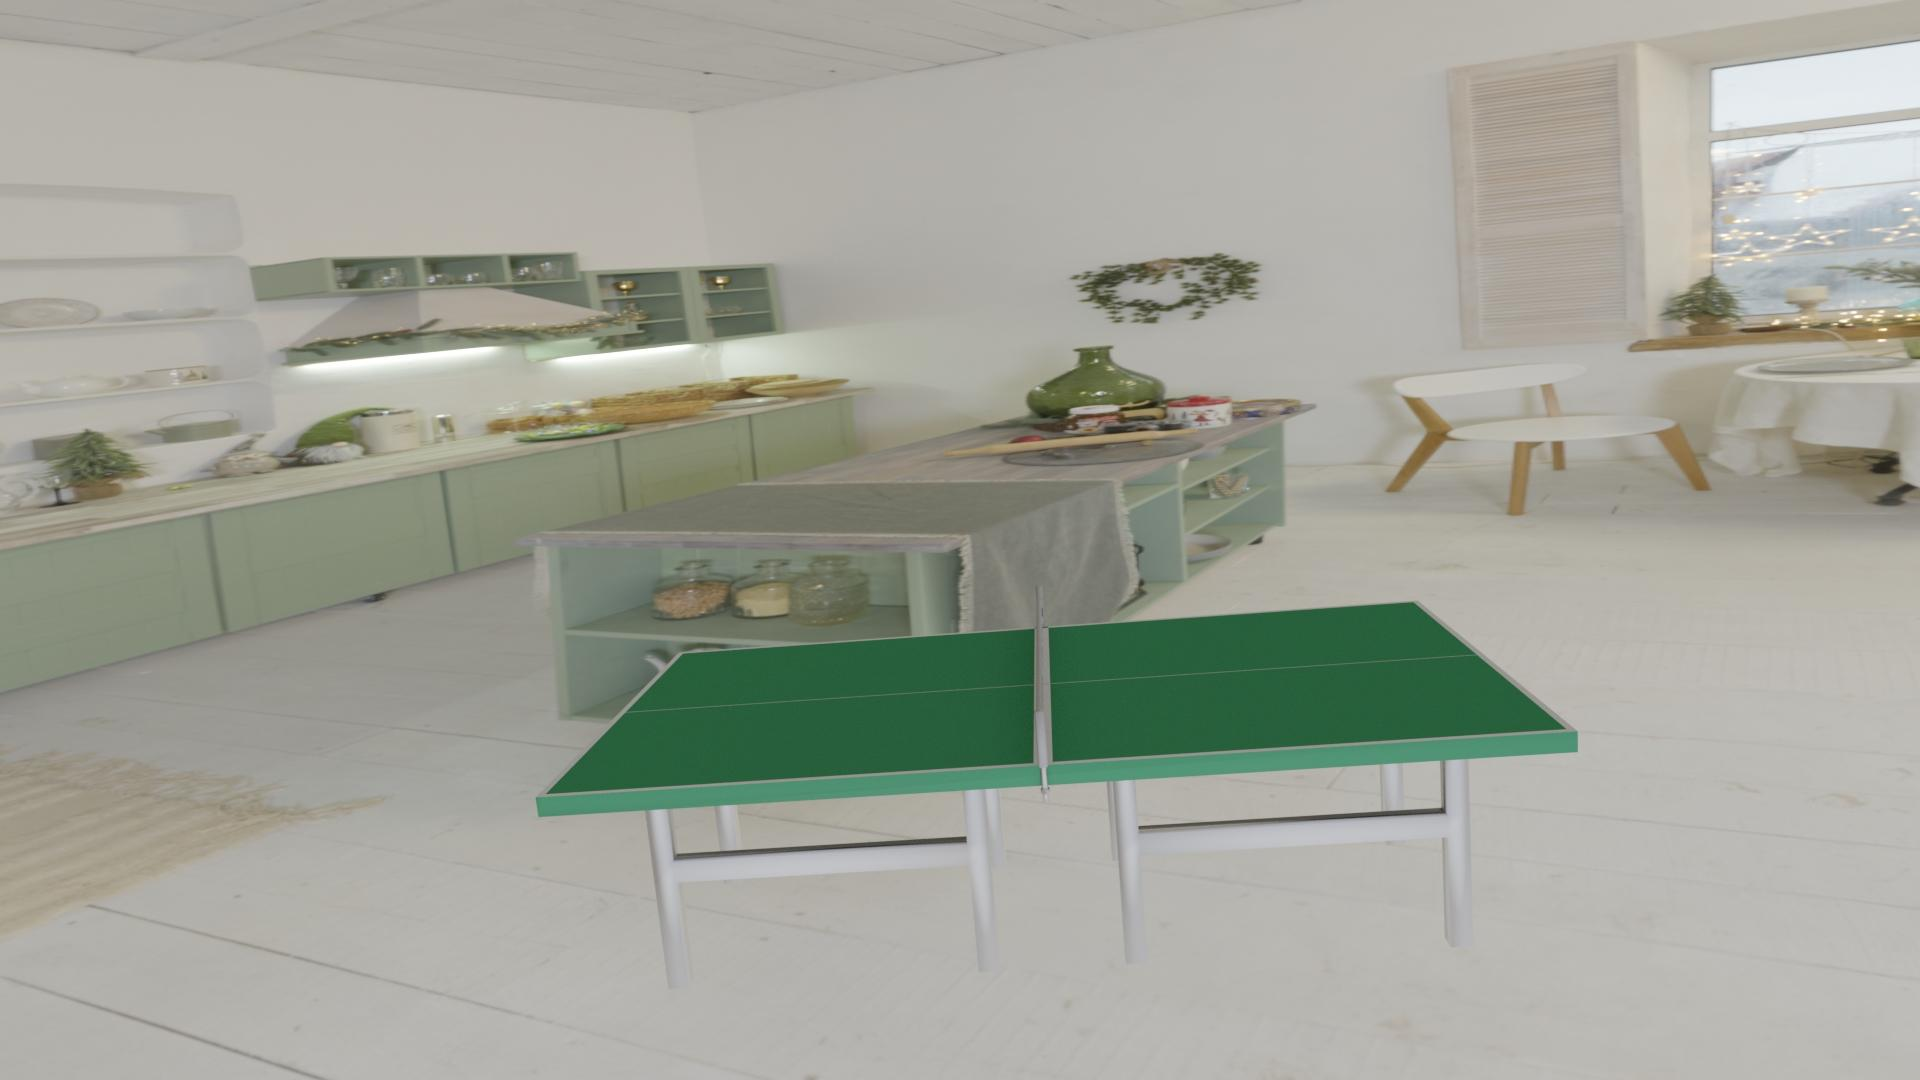table: (546, 603, 1567, 794)
